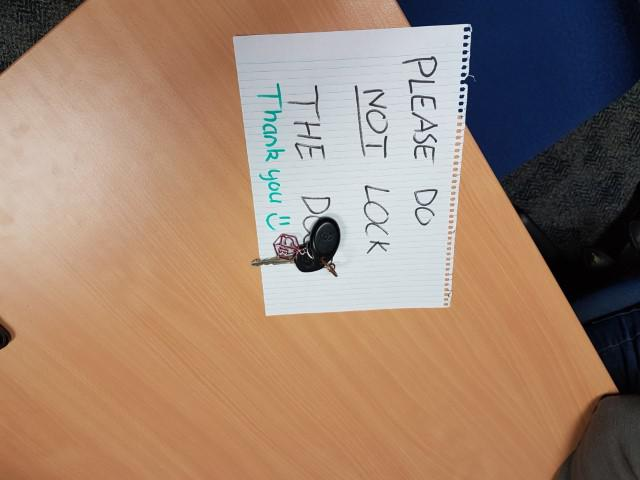key: (249, 239, 330, 279)
